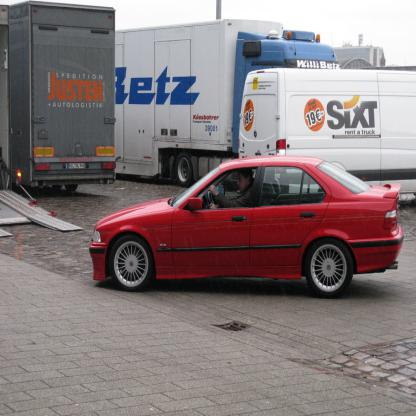Car: (87, 156, 406, 289)
